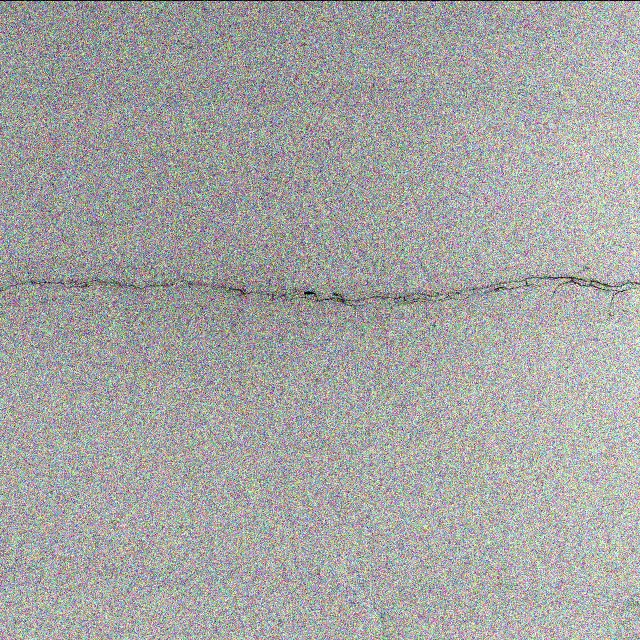SurfaceCrack: (1, 230, 640, 357)
